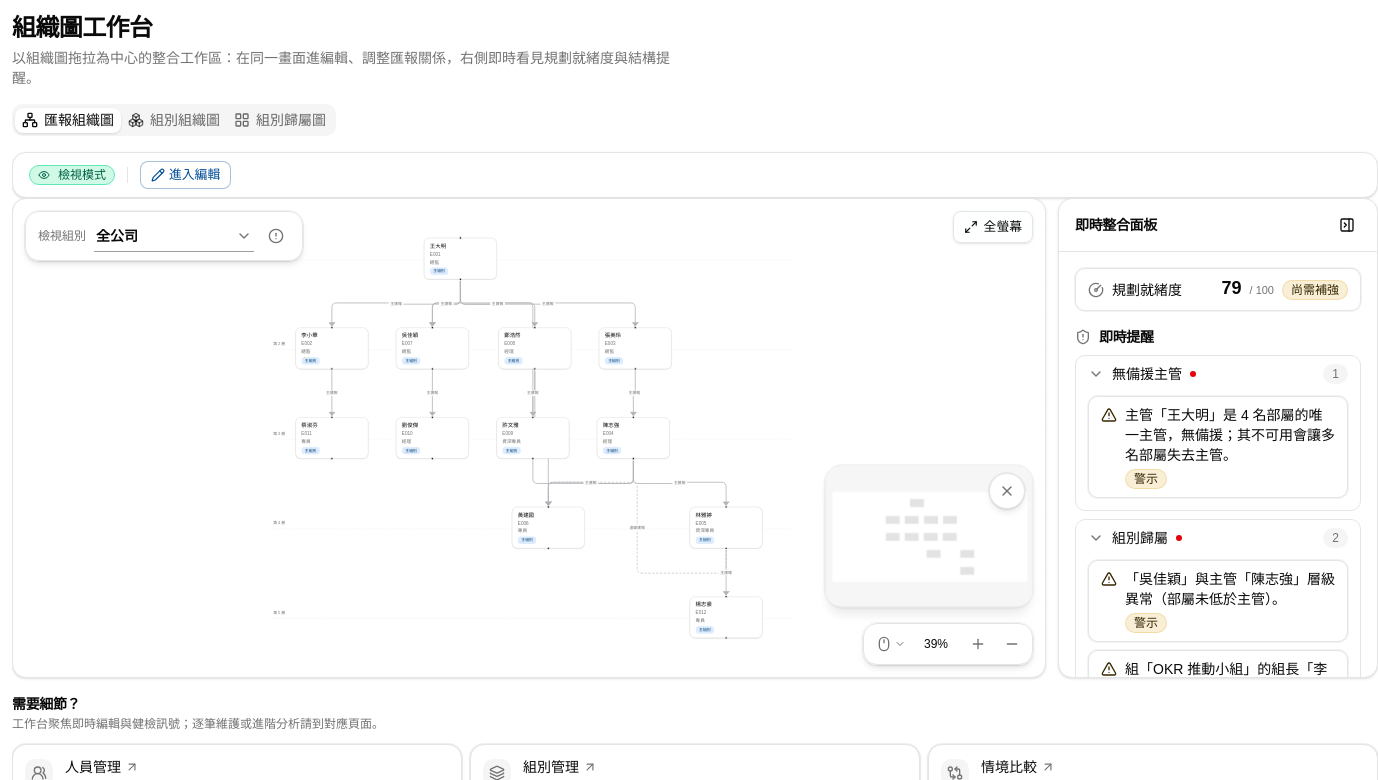
Test case: WorkbenchPage 主視圖切換（匯報 ↔ 組別） › 全公司組別視圖：跨多組同一員工 → 無重複 node key 警告（作用域化 id）
The width and height of the screenshot is (1378, 780).
Click the tab "組別組織圖" at (174, 120), box [121,108,227,132]
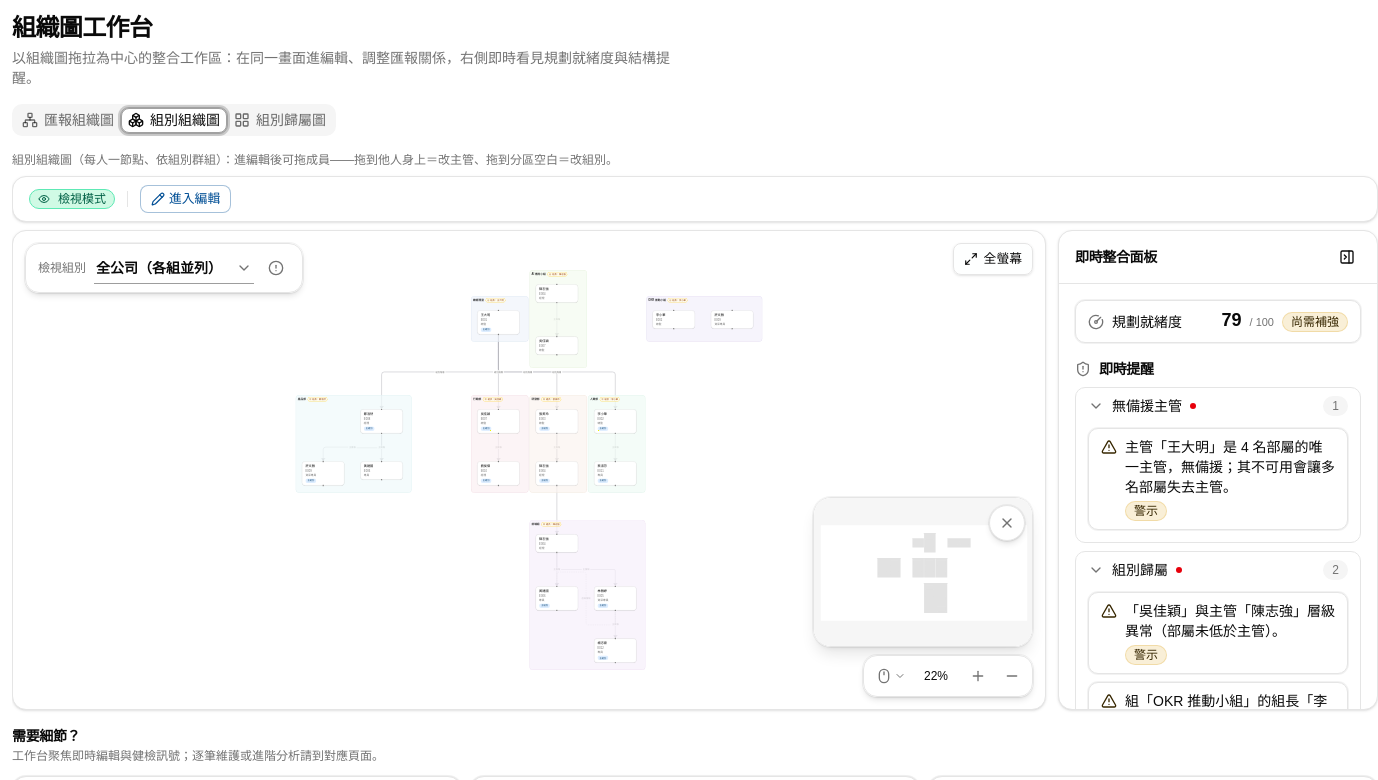
Expected: the element with class "react-flow__node-groupZone" showing "總經理室 組長：王大明" is shown, [471,296,528,342]
